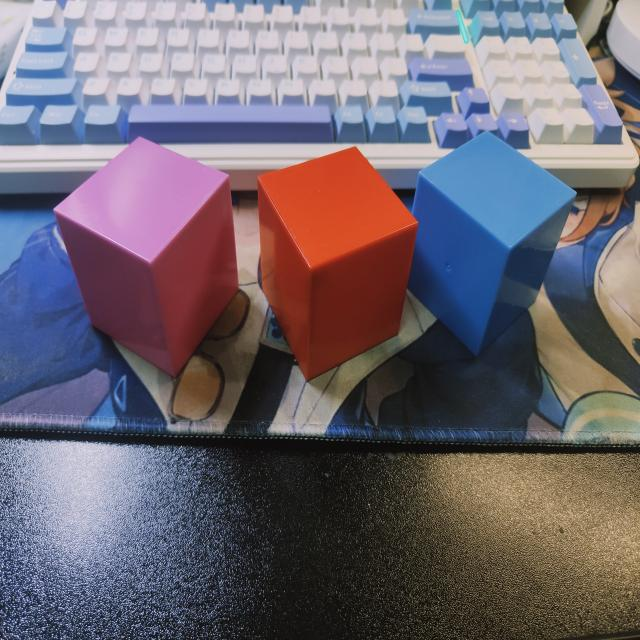blue: (408, 132, 579, 363)
pink: (53, 140, 240, 387)
red: (257, 148, 418, 386)
